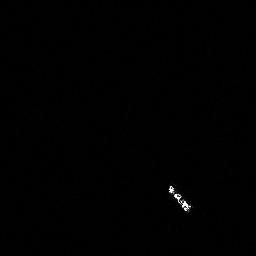ship: (168, 185, 192, 212)
